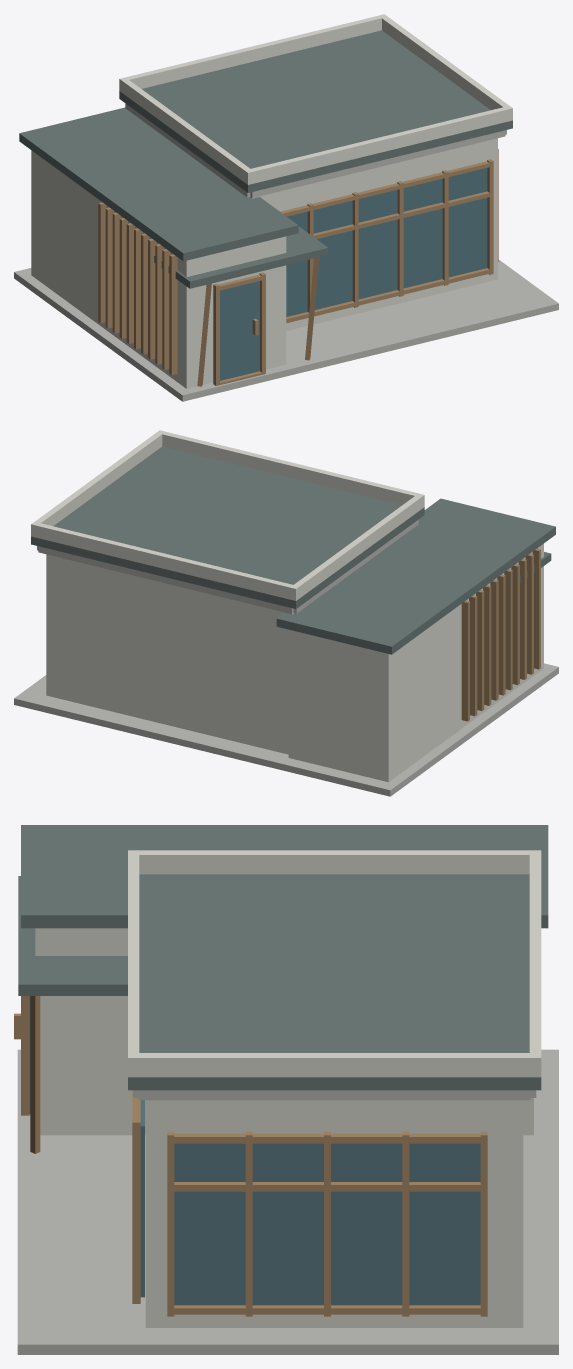
File: pro_shop_03.glb
3 renders of one model, top to bottom at view 1: azimuth 30°, elevation 25°; view 2: azimuth 150°, elevation 25°; view 3: azimuth 270°, elevation 25°, orthographic. The views are drawn at different scales.
Visible parts, largest first — view 1: Pro_shop_03; view 2: Pro_shop_03; view 3: Pro_shop_03.
Boxes of the visible parts, x1=… form: Pro_shop_03: x1=14, y1=14, x2=558, y2=401; Pro_shop_03: x1=14, y1=430, x2=558, y2=796; Pro_shop_03: x1=14, y1=825, x2=558, y2=1354.
Bounding box in the file's own units: 9.8 × 4.46 × 7.65.
